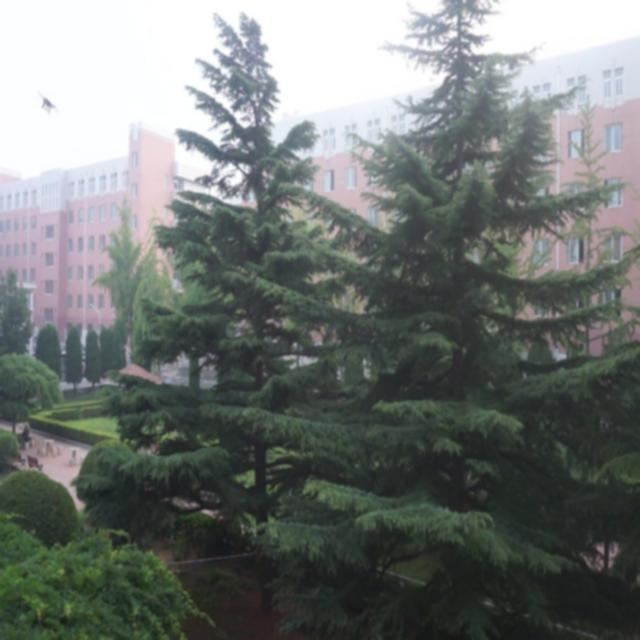UAV: (38, 90, 59, 113)
